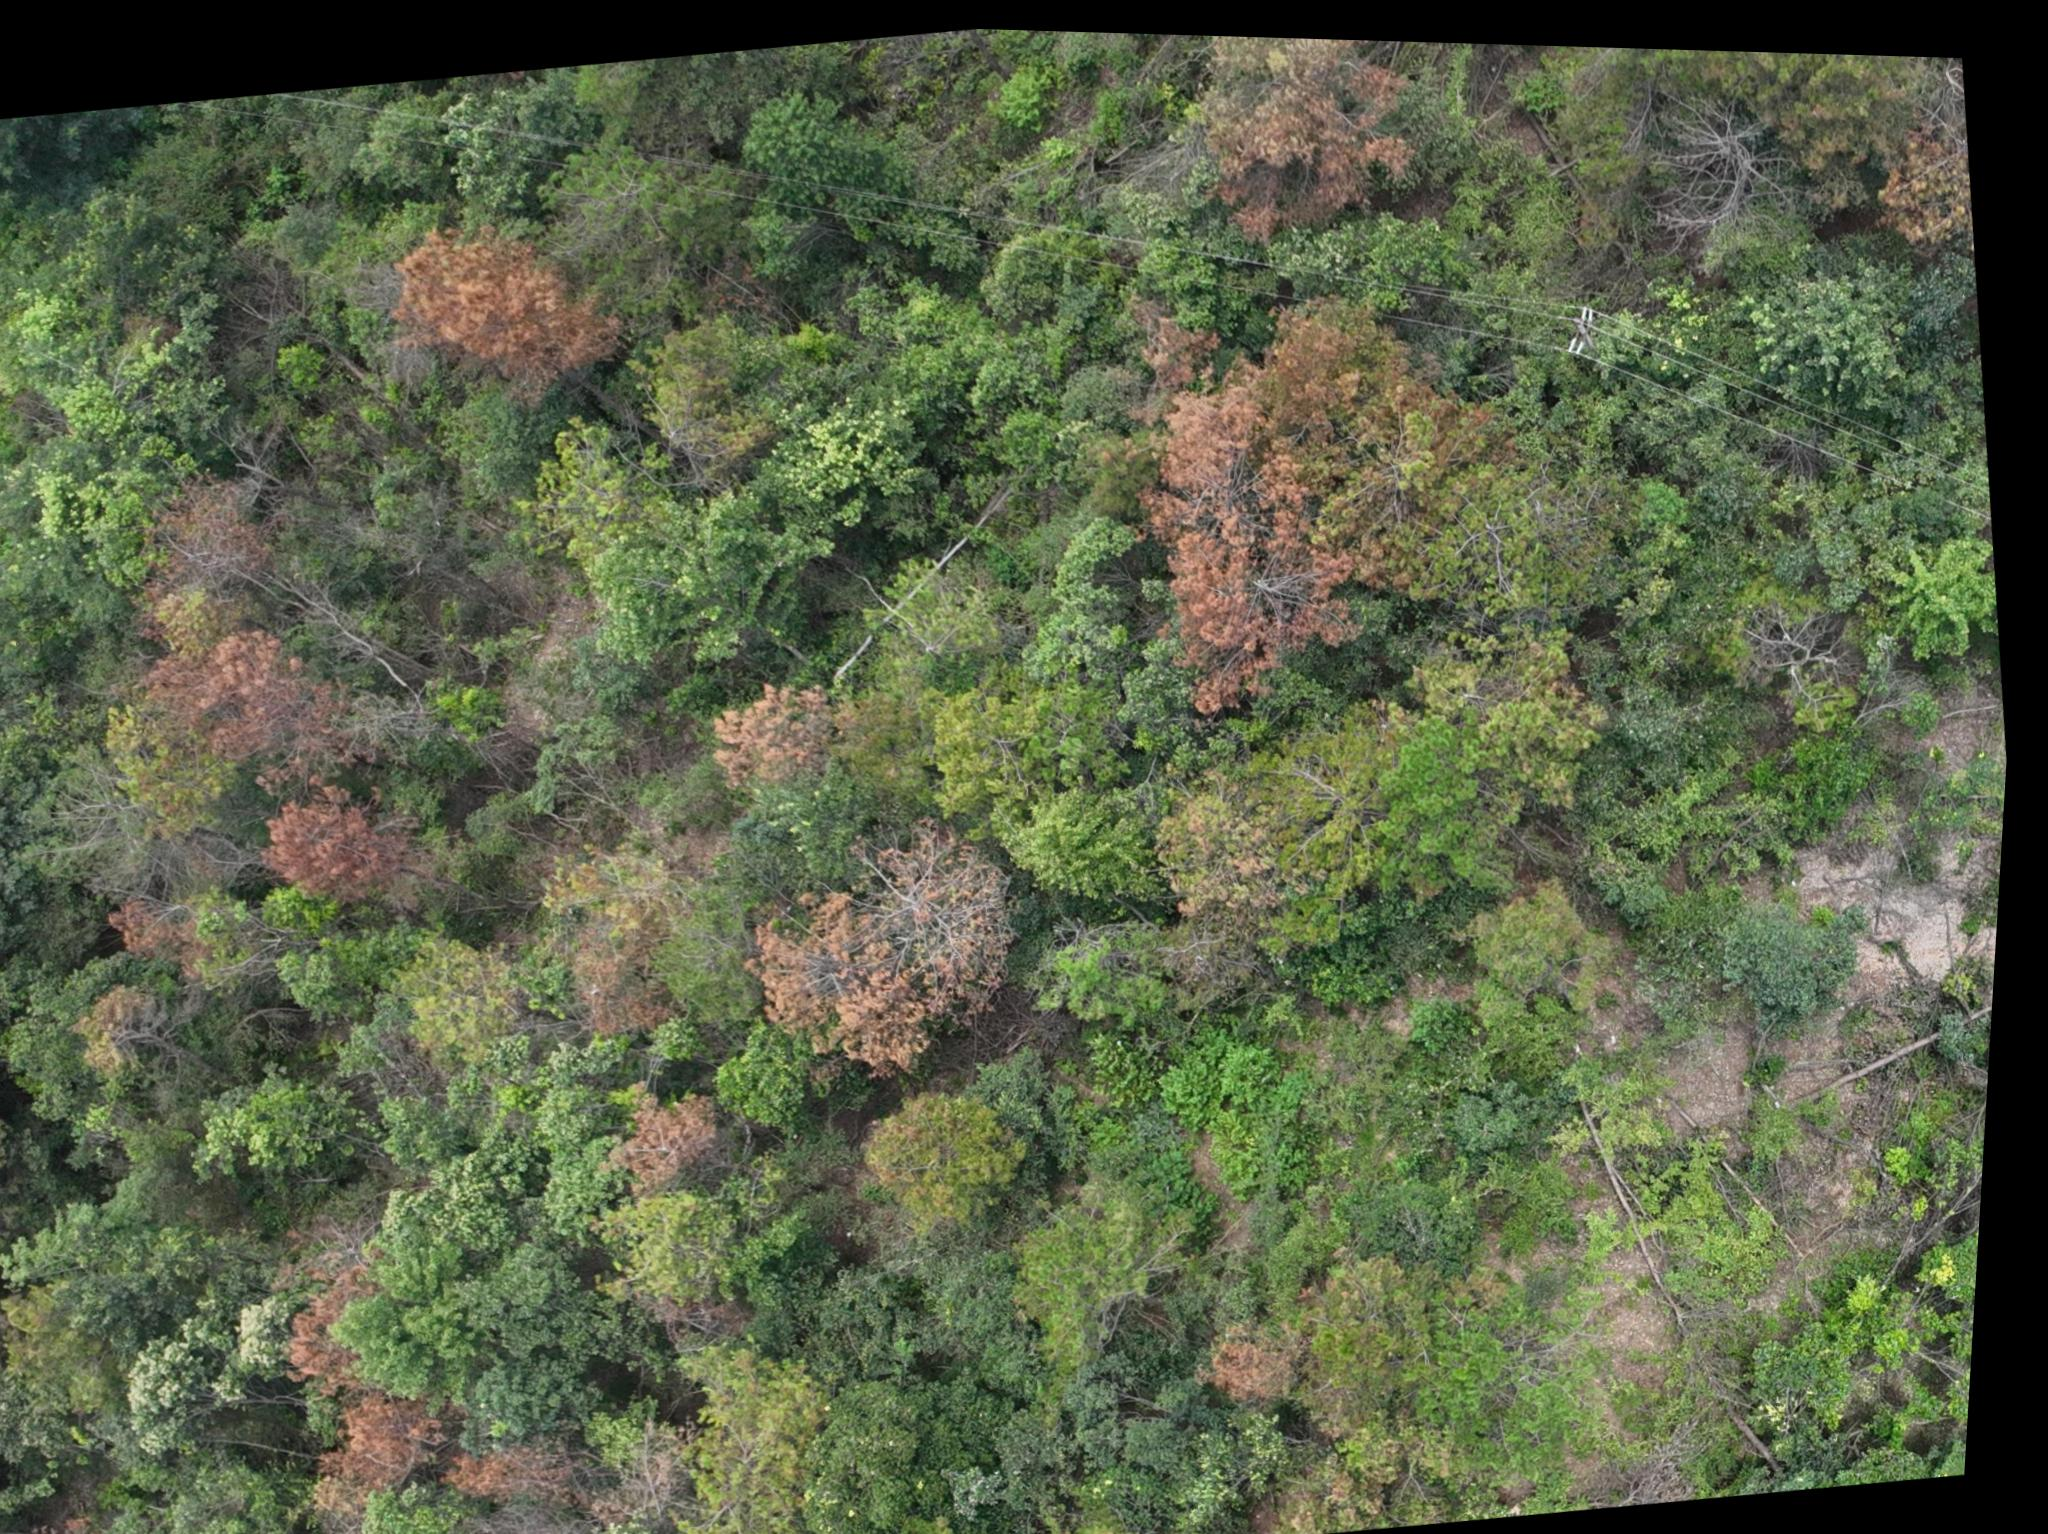dead: (475, 1505, 572, 1534)
heavy: (1121, 295, 1381, 720), (741, 801, 1062, 1089), (390, 201, 638, 403), (1186, 27, 1420, 237), (161, 614, 372, 788), (264, 767, 454, 909), (711, 659, 862, 799), (92, 886, 234, 1031), (142, 454, 290, 591), (622, 1078, 743, 1199), (327, 1389, 456, 1502), (290, 1260, 393, 1395), (461, 1418, 599, 1510), (1213, 1316, 1336, 1402), (24, 1502, 140, 1534), (585, 1528, 690, 1534)
light: (1355, 382, 1545, 580), (872, 1078, 1041, 1229)
